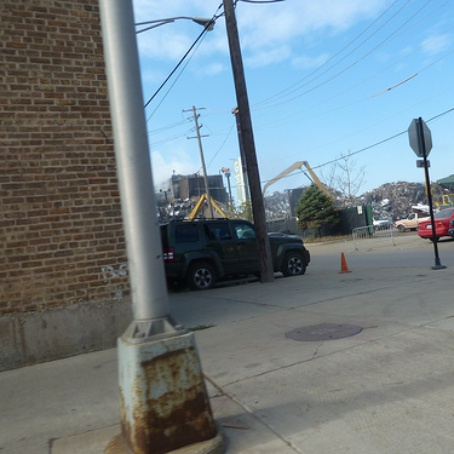building: (1, 1, 159, 358)
car: (159, 213, 314, 291)
sky: (150, 1, 454, 173)
traffic cone: (334, 249, 355, 275)
